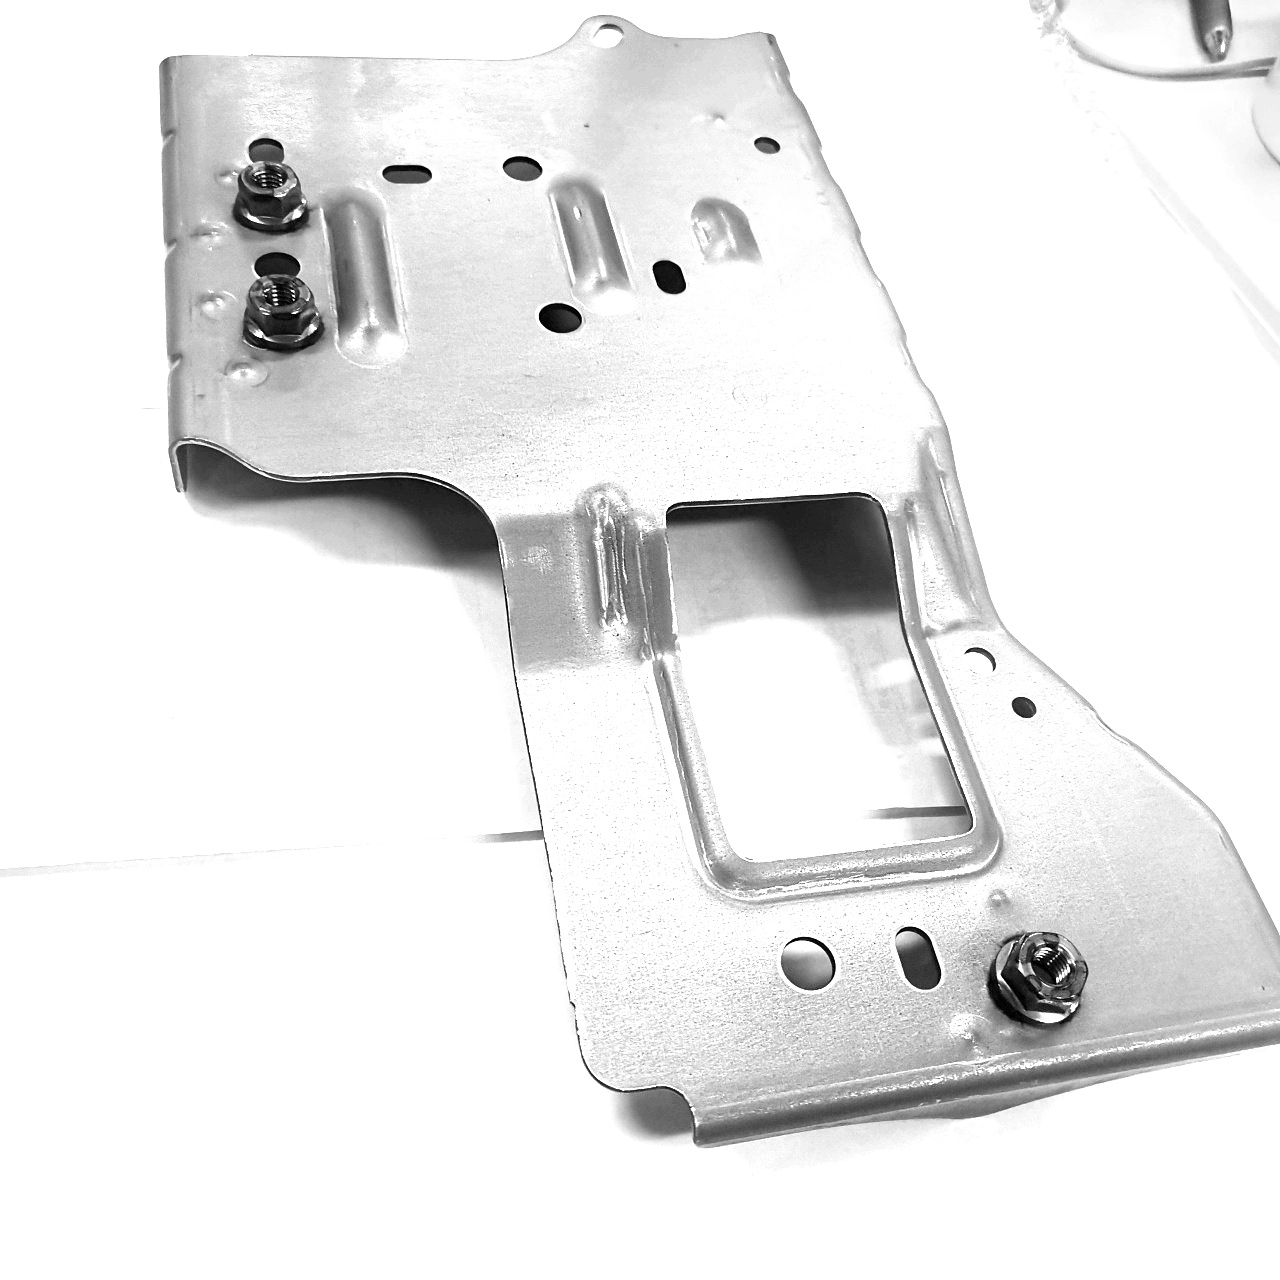dog: (980, 924, 1090, 1034), (236, 270, 328, 358), (229, 156, 316, 241)
